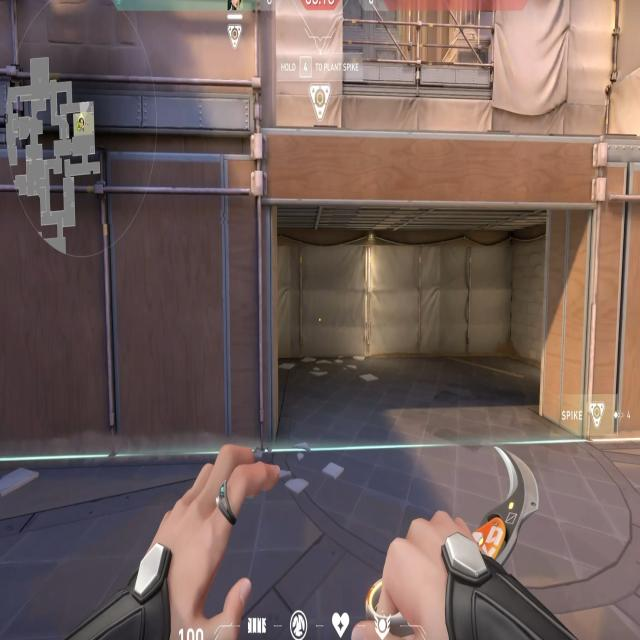A_Hell: (220, 147, 636, 450)
